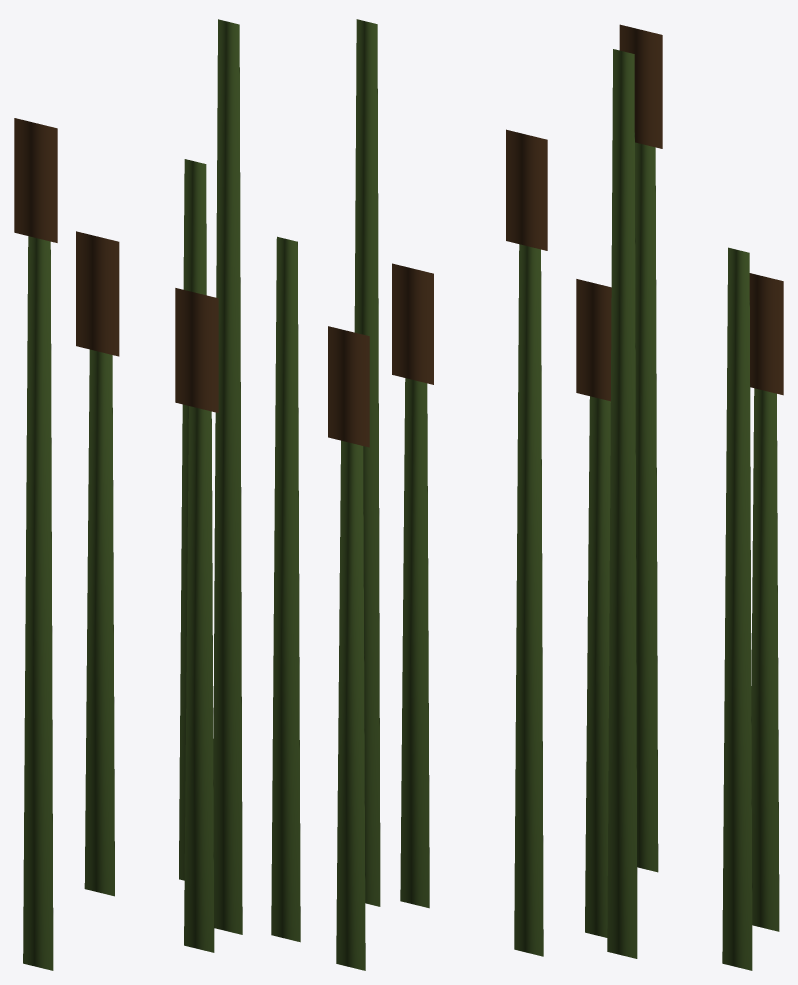
Rendered from junco.glb.
3 renders of one model, left to right at view 1: azimuth 30°, elevation 25°; view 2: azimuth 150°, elevation 25°; view 3: azimuth 270°, elevation 25°, orthographic. The views are drawn at different scales.
Parts seen in each view (by area): view 1: junco_liso; view 2: junco_liso; view 3: junco_liso.
Boxes of the visible parts, x1,y1,x2,y2 form: junco_liso: (14,19,242,970); junco_liso: (271,19,547,970); junco_liso: (576,24,783,970).
Bounding box in the file's own units: 0.4809 × 1.74 × 0.3621.
